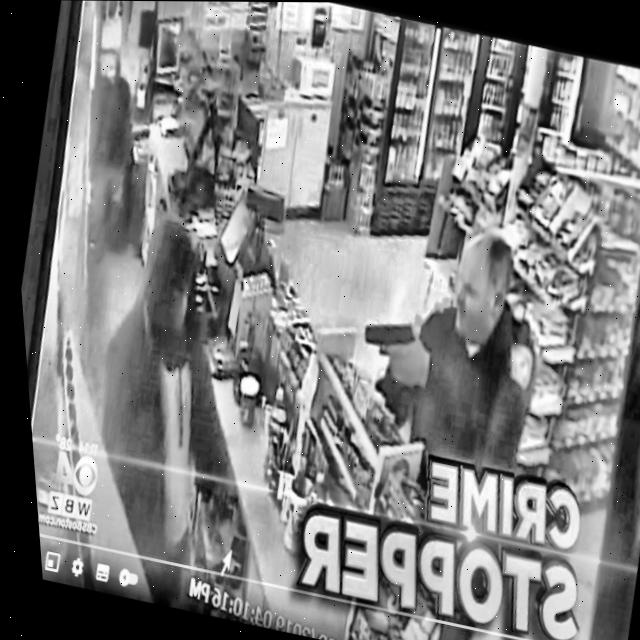pistol: (342, 301, 442, 391)
